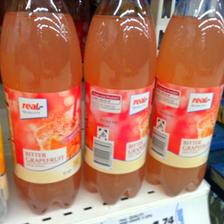Soda: (0, 0, 84, 212), (82, 0, 158, 204), (145, 0, 223, 196)
